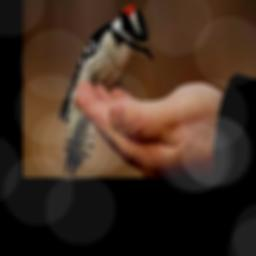Woodpecker: (59, 3, 154, 177)
